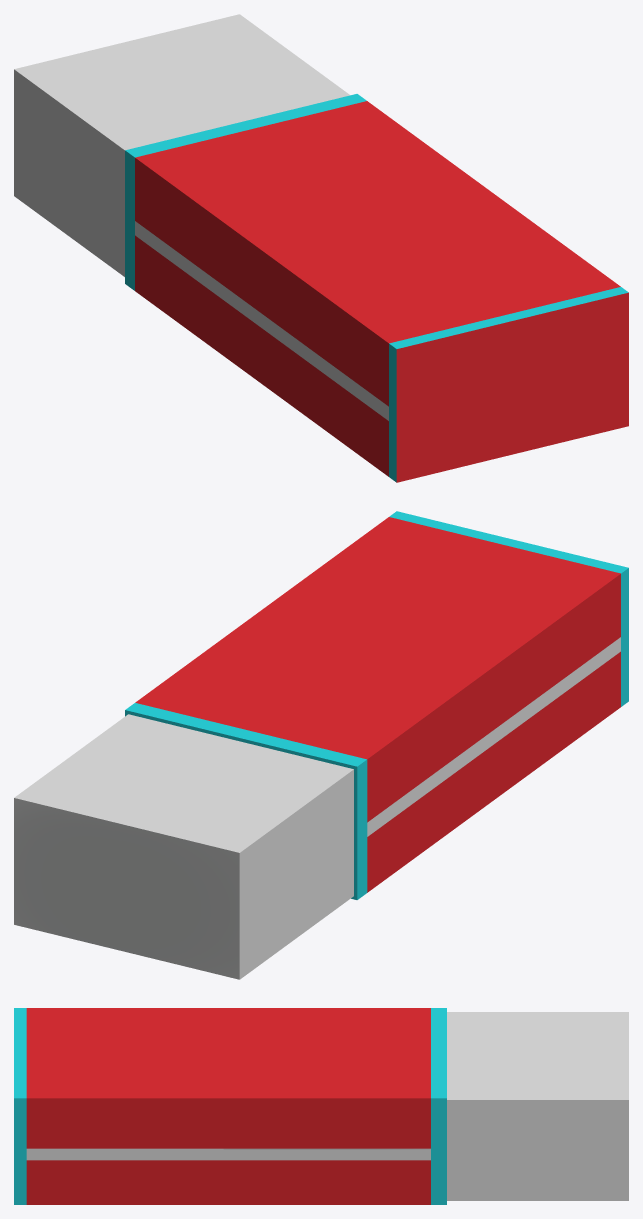
The model's file is borrador.fbx.
3 views of the same model, one above another, from view 1: azimuth 30°, elevation 25°; view 2: azimuth 150°, elevation 25°; view 3: azimuth 270°, elevation 25° (orthographic). The views are drawn at different scales.
Visible parts, largest first — view 1: Cube; view 2: Cube; view 3: Cube.
Part boxes in pixels (<box>): Cube: <box>14,14,628,482</box>; Cube: <box>14,511,628,979</box>; Cube: <box>14,1008,628,1204</box>.
Size of the model in its own units: 2.07 by 1.14 by 5.96.
Materials: 4 (1 with a texture image).
